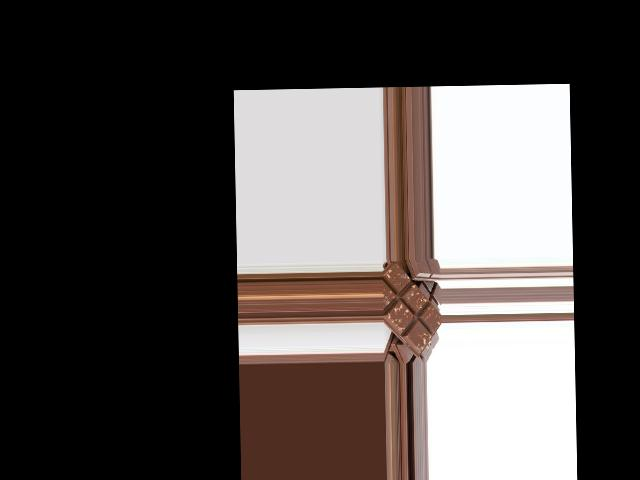chocolate: (381, 261, 441, 351)
